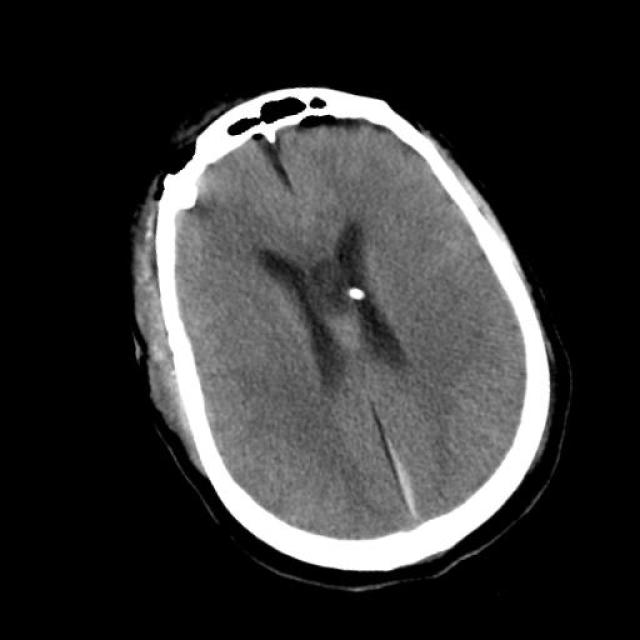Subdural: (330, 378, 470, 551)
